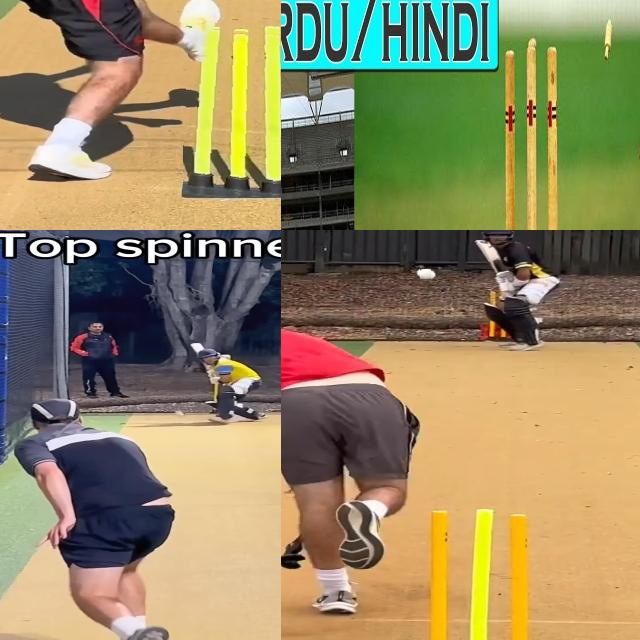Cricket ball: (414, 266, 438, 281), (175, 410, 185, 417)
Stumps: (411, 508, 546, 640), (183, 26, 281, 196), (502, 37, 562, 230)
